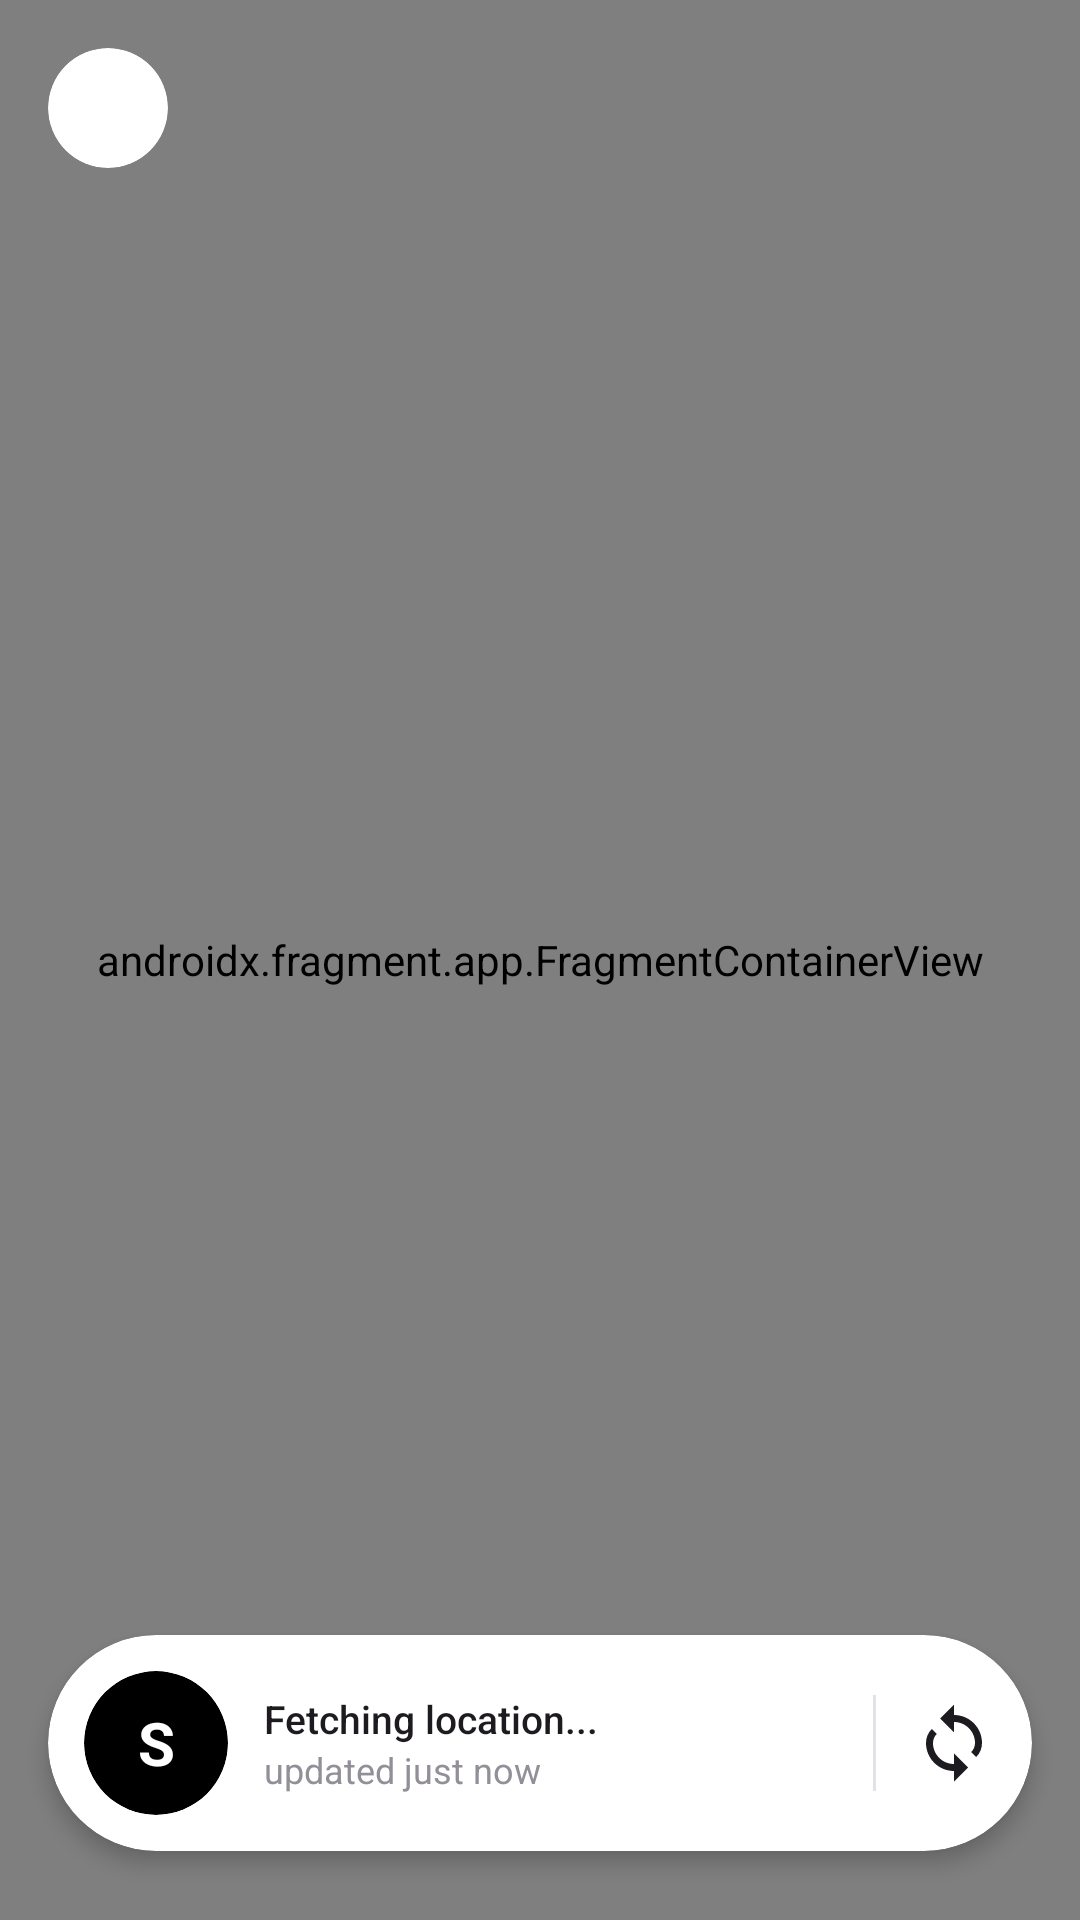

Where icons sit on this 1080*1920 app screen, as [x1,y1,x2,y2]:
Refresh: [926,1705,982,1782]
